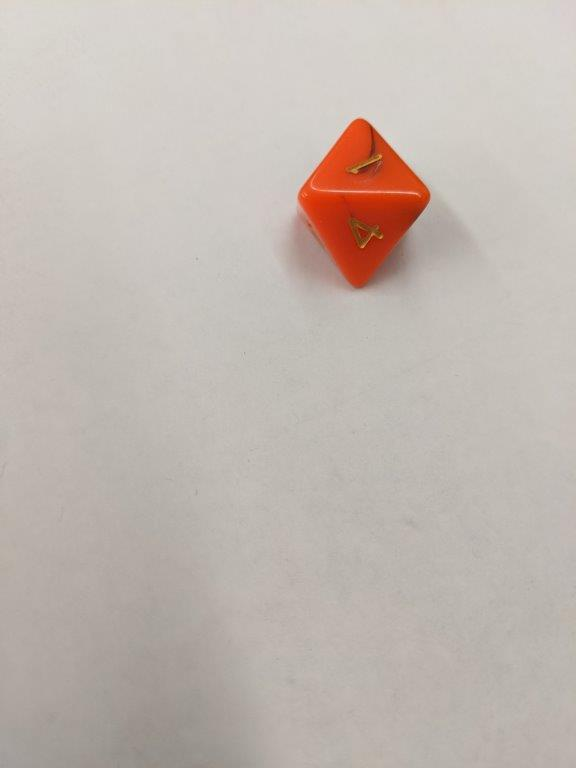d8-1: (292, 115, 435, 292)
